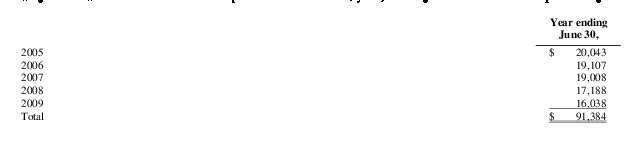table: (0, 0, 632, 142)
